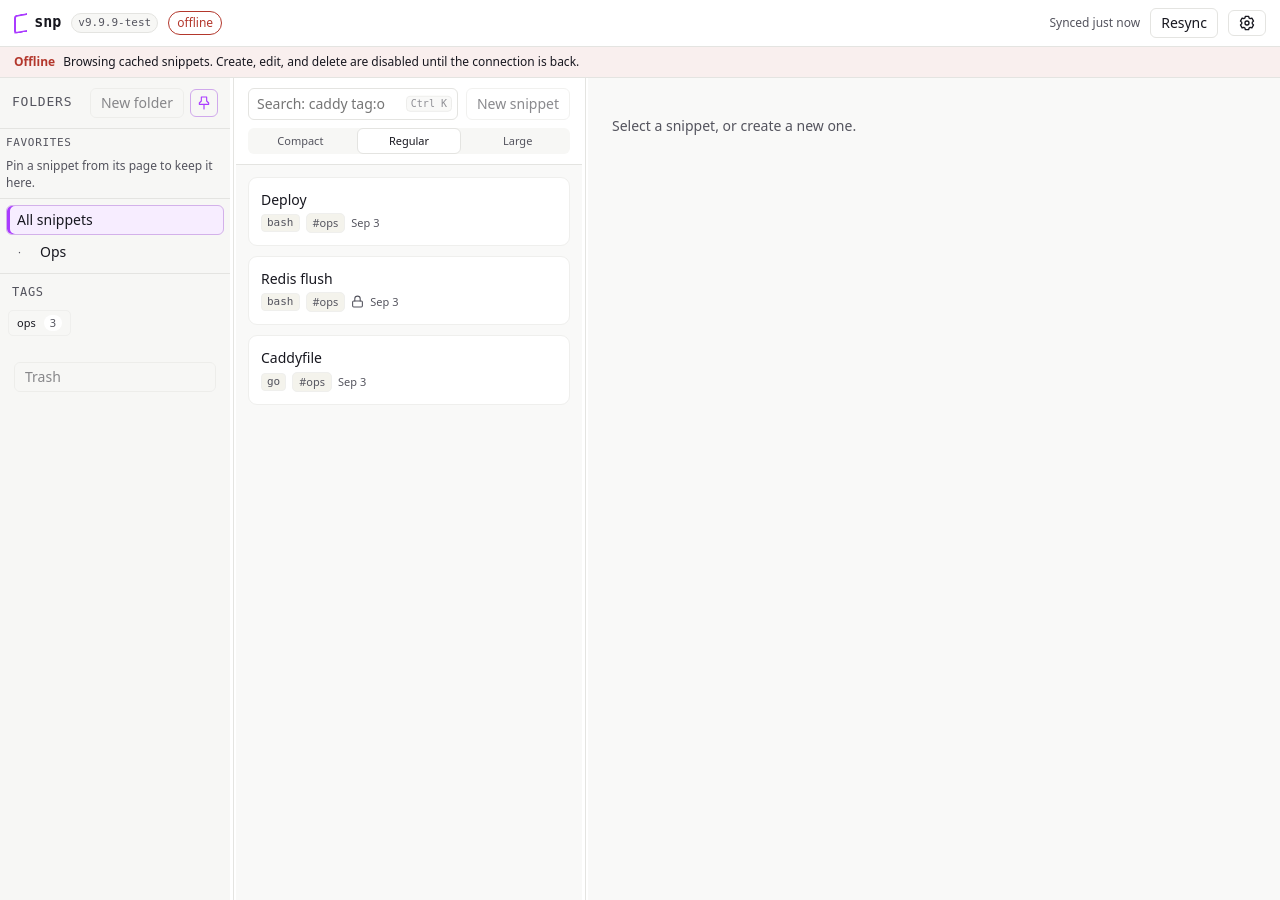
App › disables writes and reveal when offline
Check: the text "Caddyfile" is shown, box 261,348 -> 322,369
Check: the text "Browsing cached snippets. Create, edit, and delete are disabled until the connection is back." is shown, box 63,53 -> 579,70
Note: Sensitive reveal is blocked with a hint.
Step 1. Click the text "Redis flush" → coordinates (297, 279), box 261,269 -> 333,290
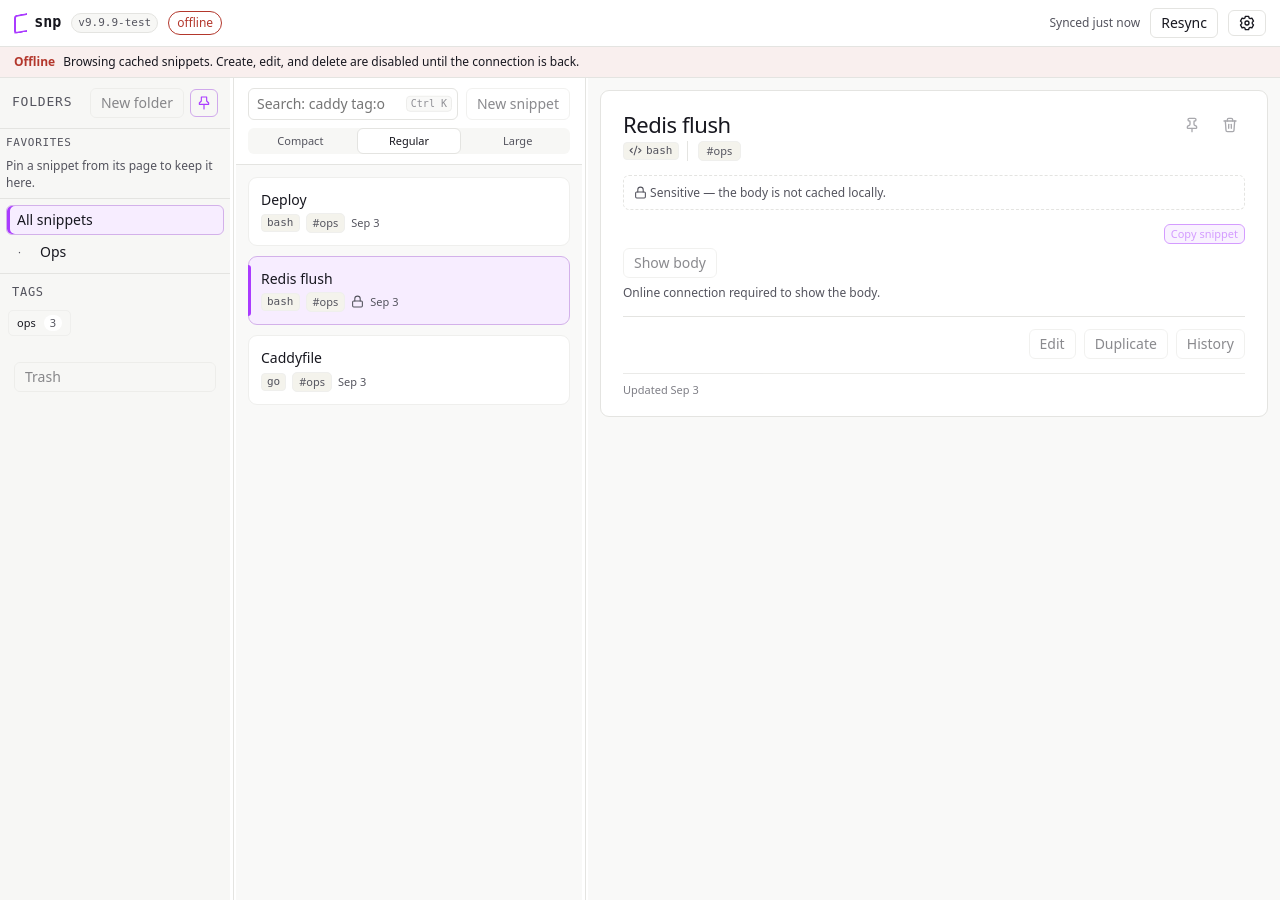
Check: the button "Show body" is disabled, box 623,248 -> 717,278
Check: the text "Online connection required to show the body." is shown, box 623,284 -> 880,302
Check: the button "Edit" is disabled, box 1029,328 -> 1076,359
Note: Saving variable defaults is also a server write.
Step 2. Click the text "Deploy" → coordinates (284, 200), box 261,190 -> 307,210
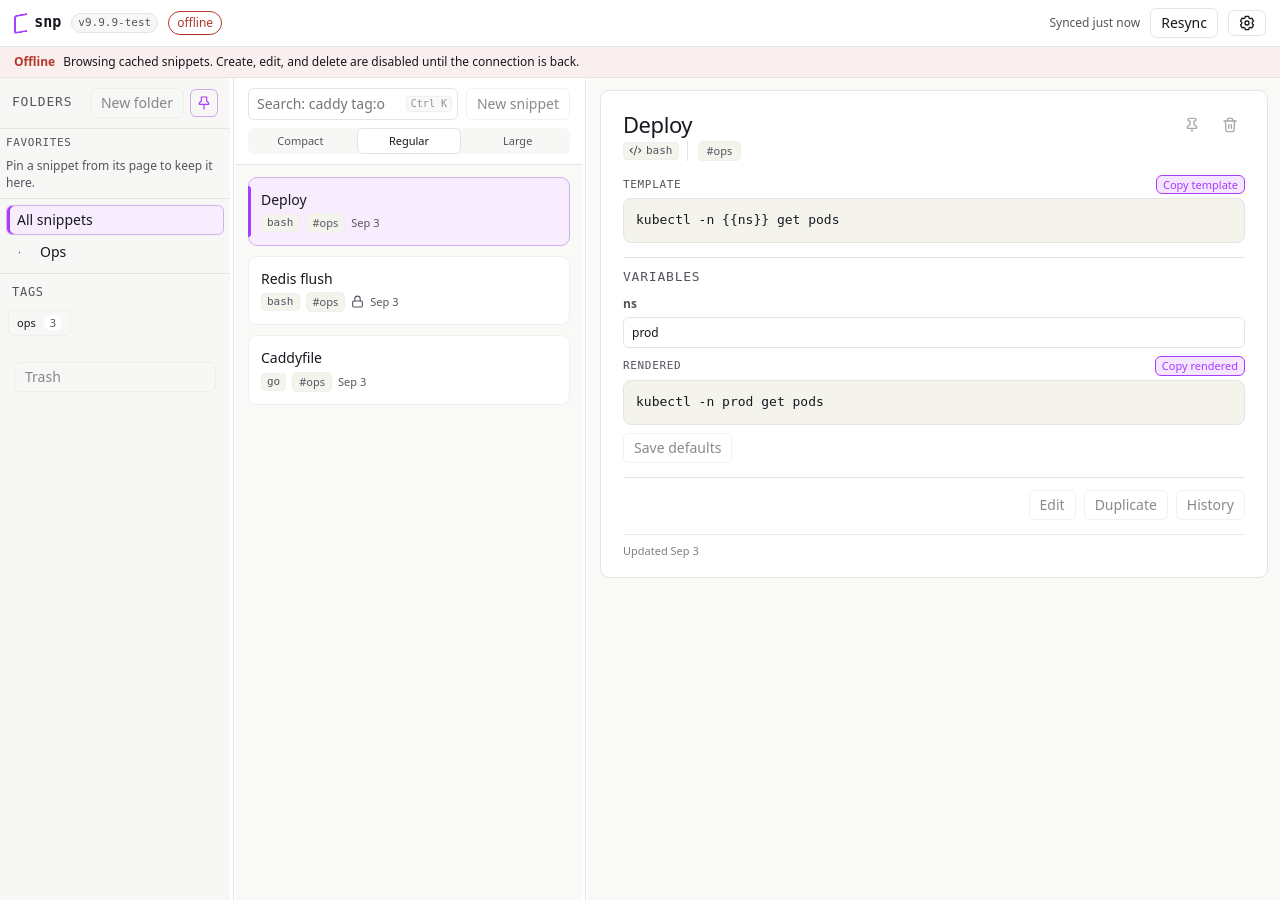
Check: the heading "Variables" is shown, box 623,269 -> 700,284
Check: the button "Save defaults" is disabled, box 623,433 -> 732,463
